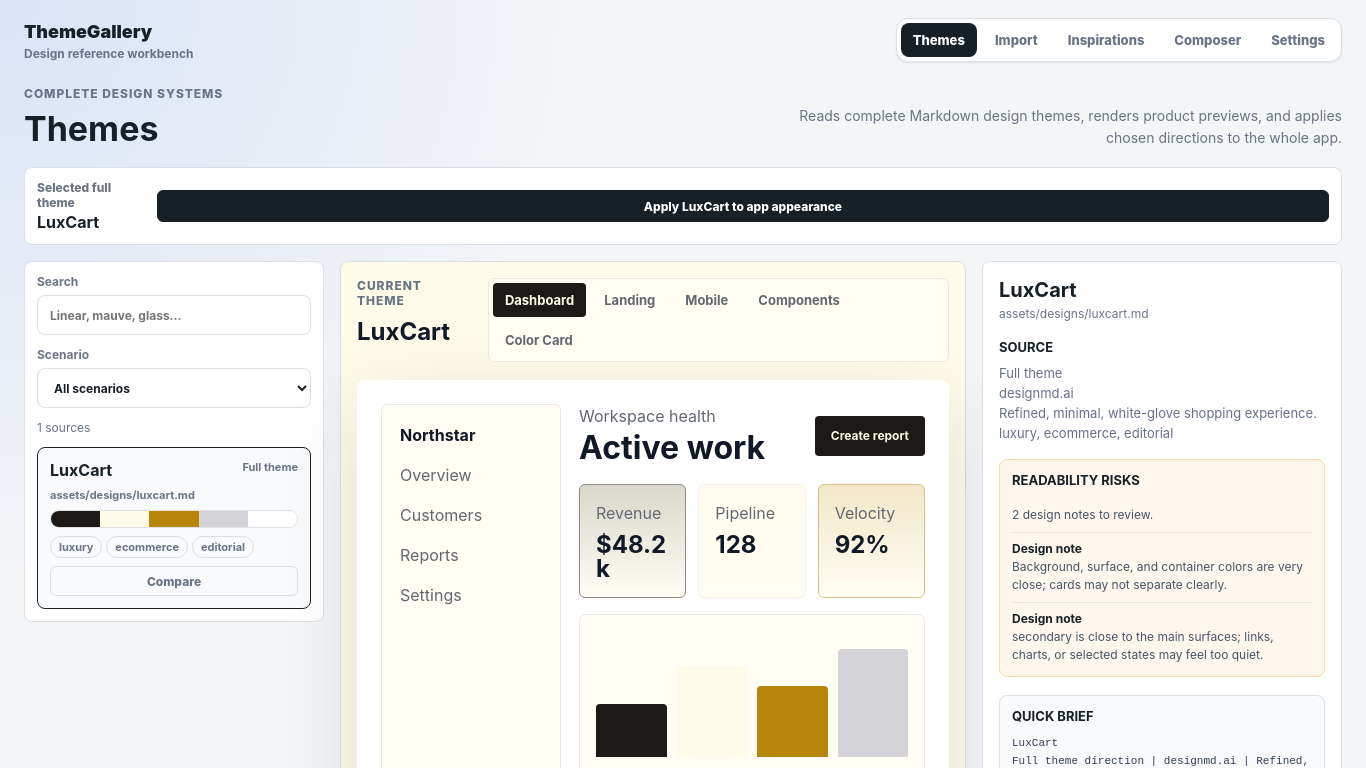
it: AppShell › switches pages without leaving the app shell
Click the button "Inspirations": (1106, 40) [1056, 23, 1156, 57]
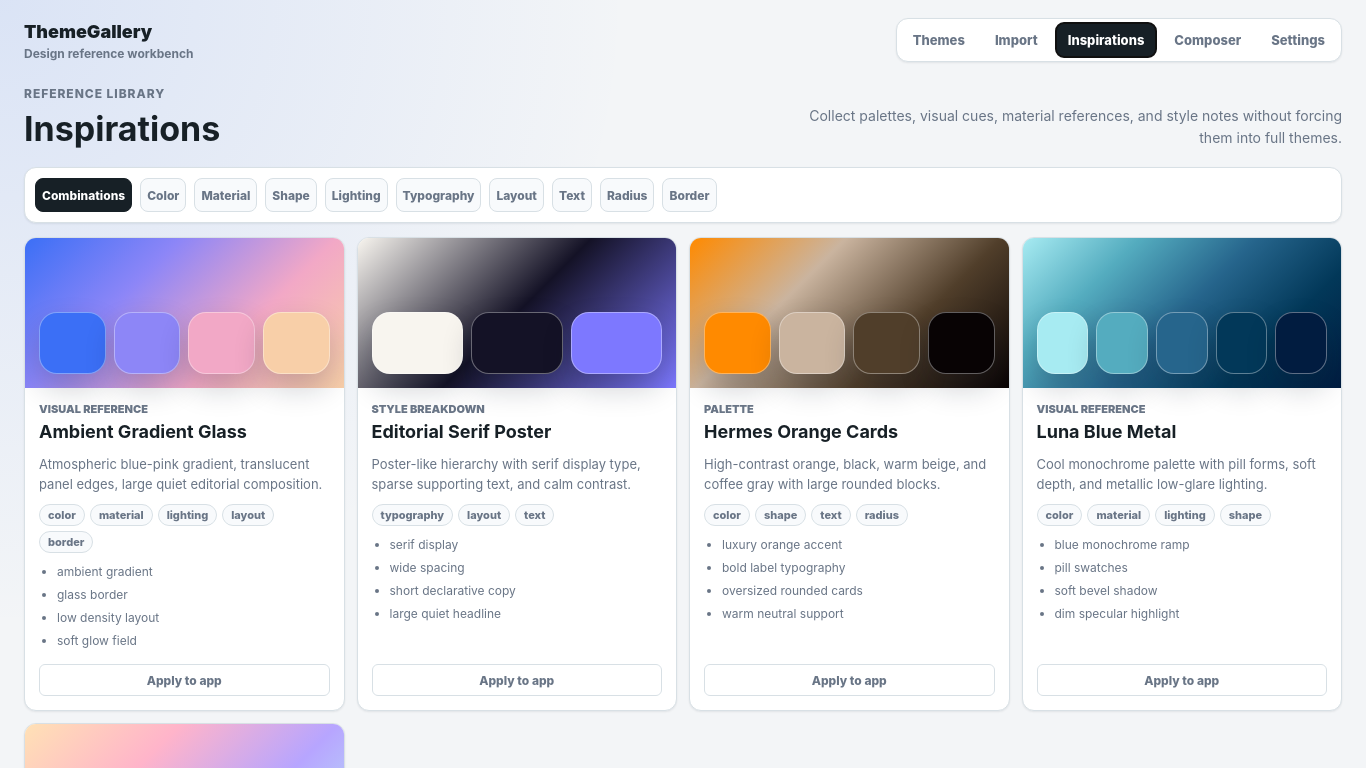
Now the heading "Inspirations" is shown, box [24, 109, 220, 149]
